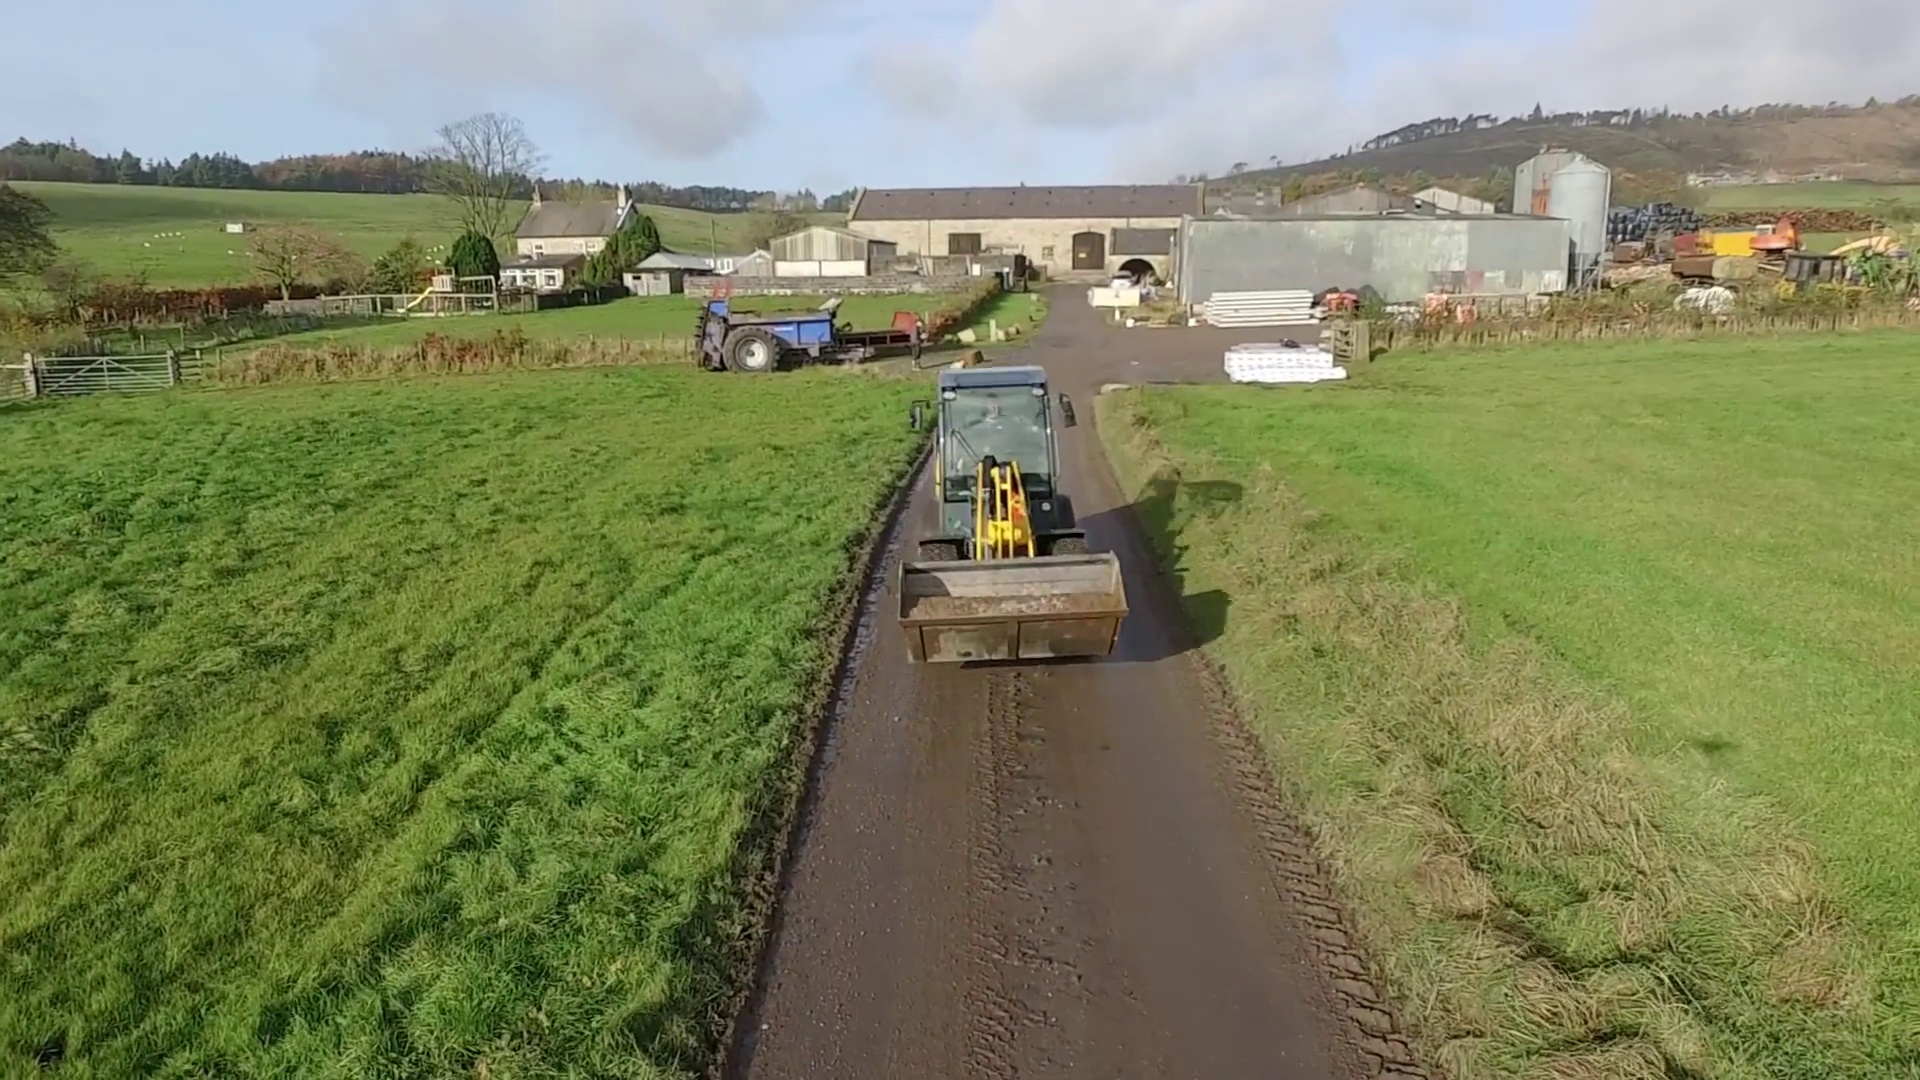wheel loader: (899, 353, 1142, 665)
